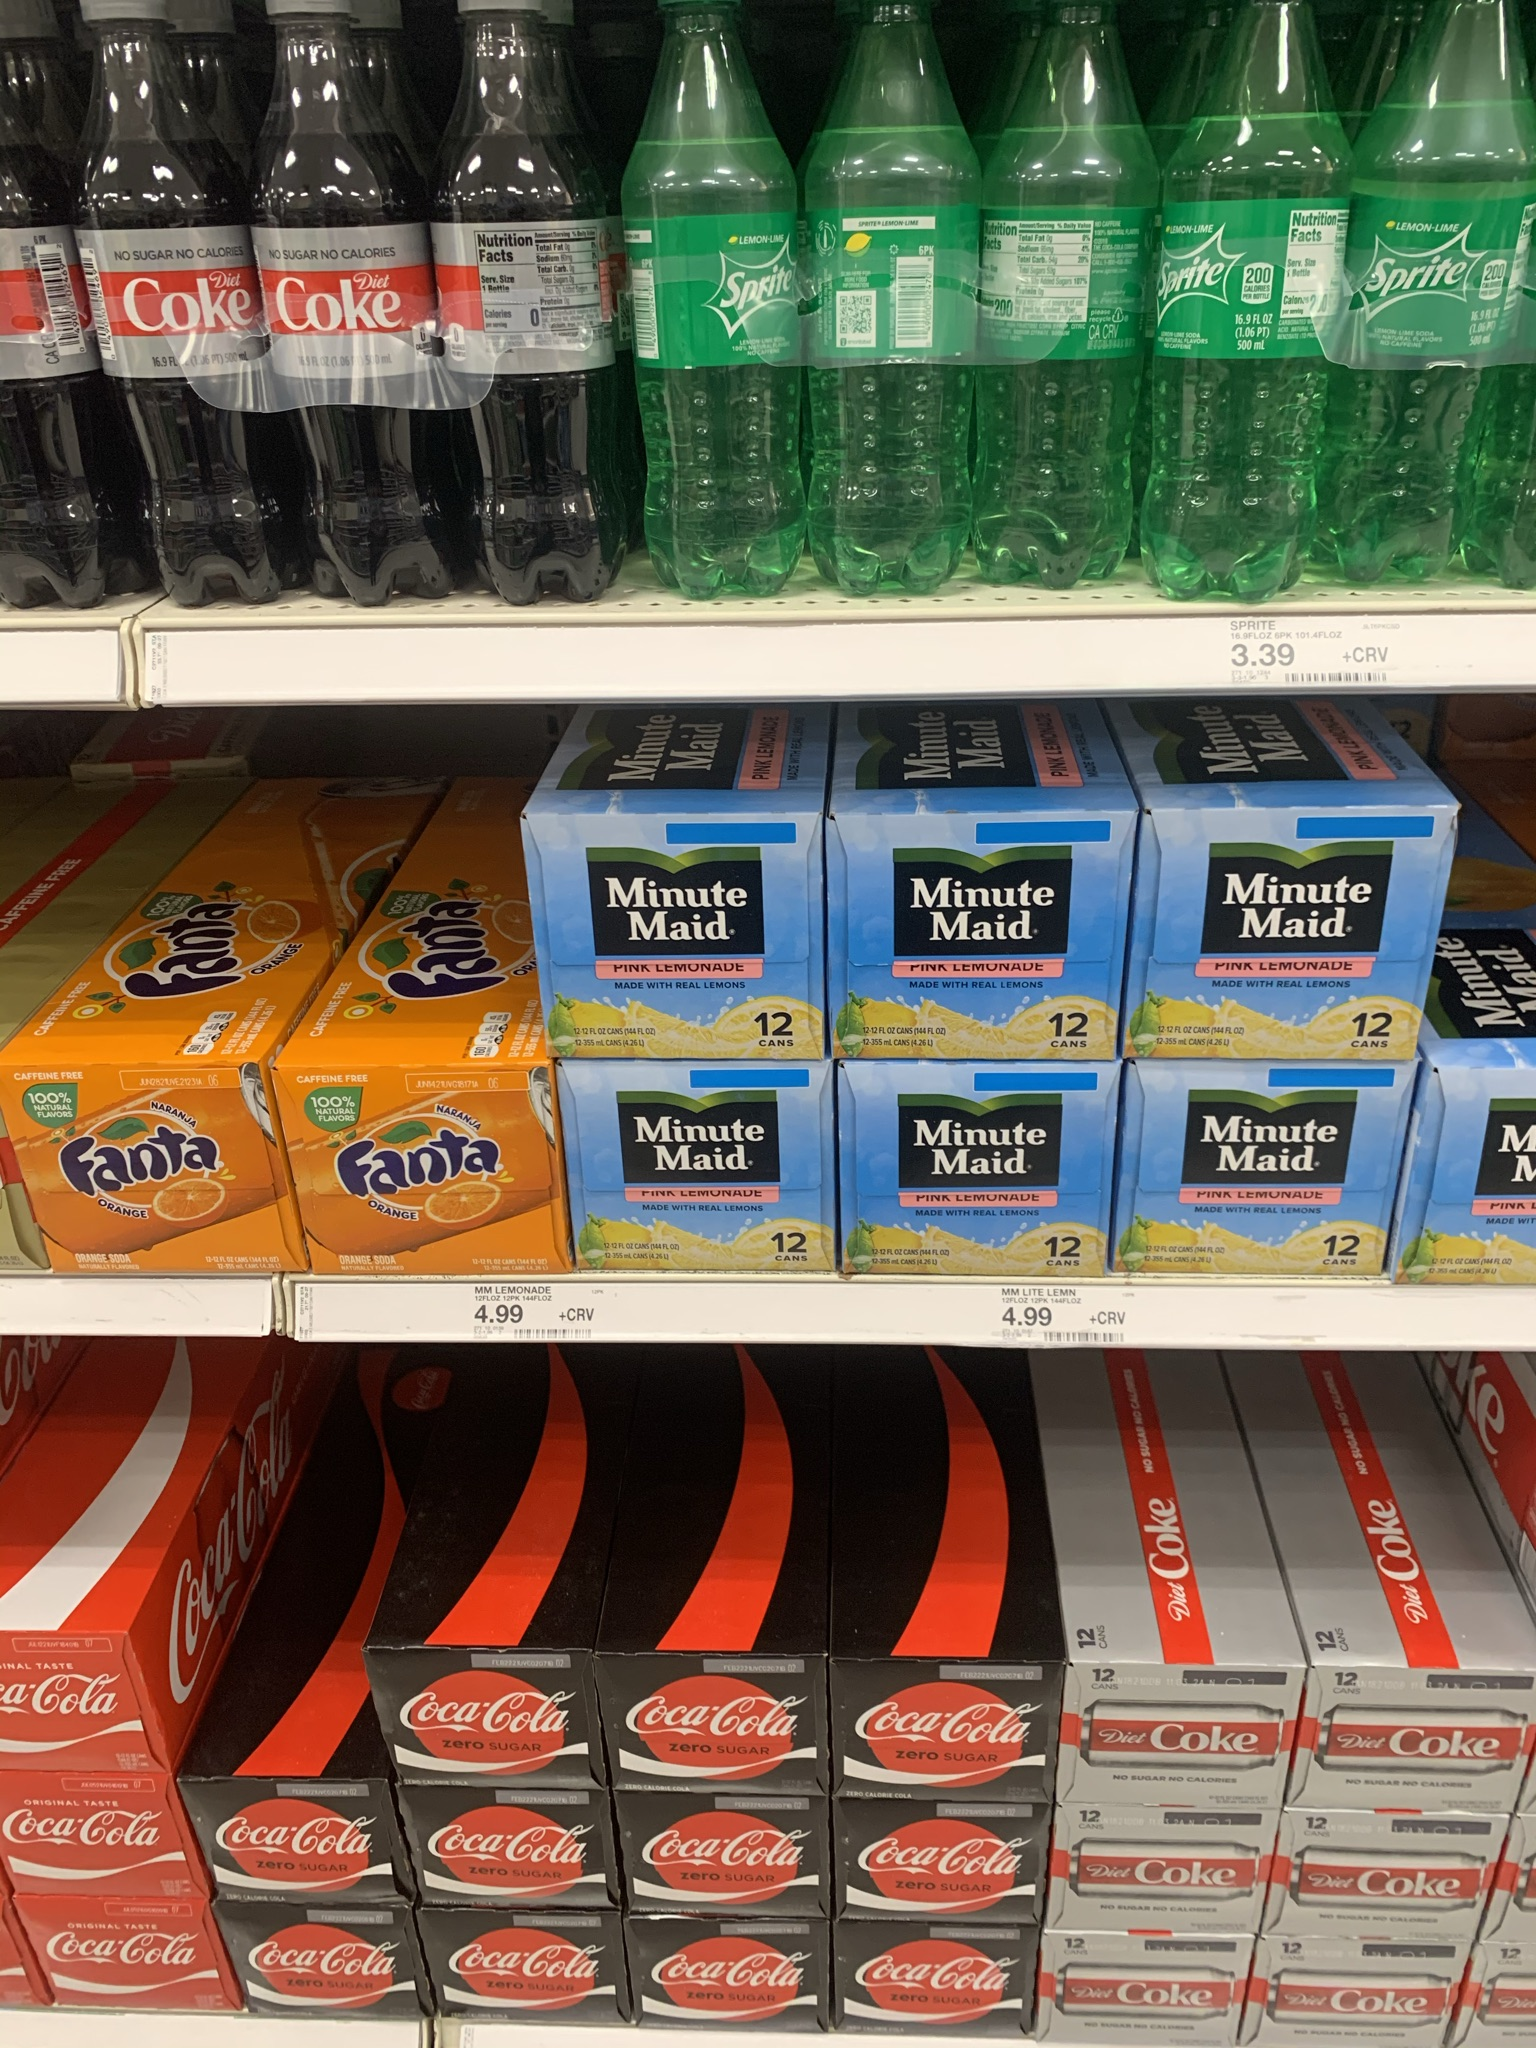coke soda: (3, 16, 287, 647), (369, 1634, 611, 2048), (279, 10, 452, 590), (2, 1646, 239, 1995), (615, 1643, 820, 2042), (470, 10, 608, 584), (839, 1650, 1047, 2025), (1078, 1655, 1270, 2048), (1312, 1656, 1468, 2048), (202, 1779, 434, 2016)
fanta soda: (287, 1064, 579, 1280), (18, 1074, 269, 1269)
minute maid soda: (539, 814, 820, 1051), (847, 826, 1104, 1076), (1152, 806, 1399, 1042), (858, 1092, 1129, 1305), (1158, 1064, 1407, 1288), (578, 1071, 828, 1251)
sprite soda: (653, 19, 815, 589), (833, 6, 971, 590), (1179, 21, 1329, 556), (1013, 11, 1142, 585), (1384, 16, 1513, 590)
